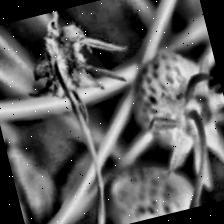Gray Mold: (9, 0, 144, 141)
